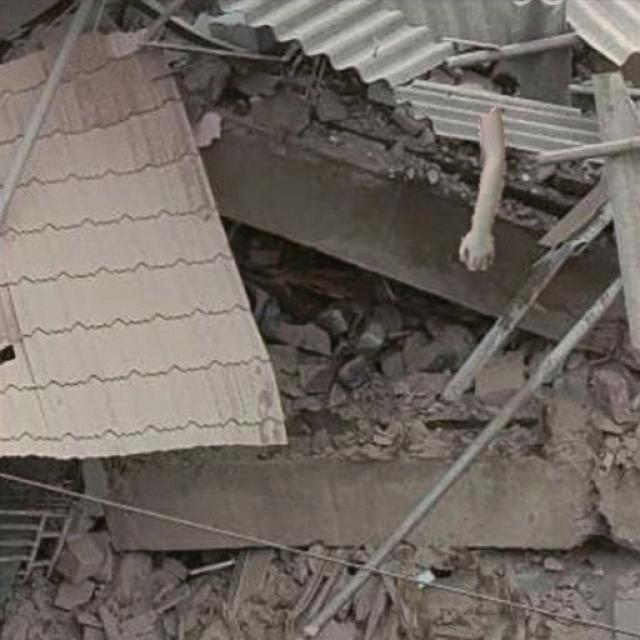Person in Rubble: (459, 108, 505, 268)
